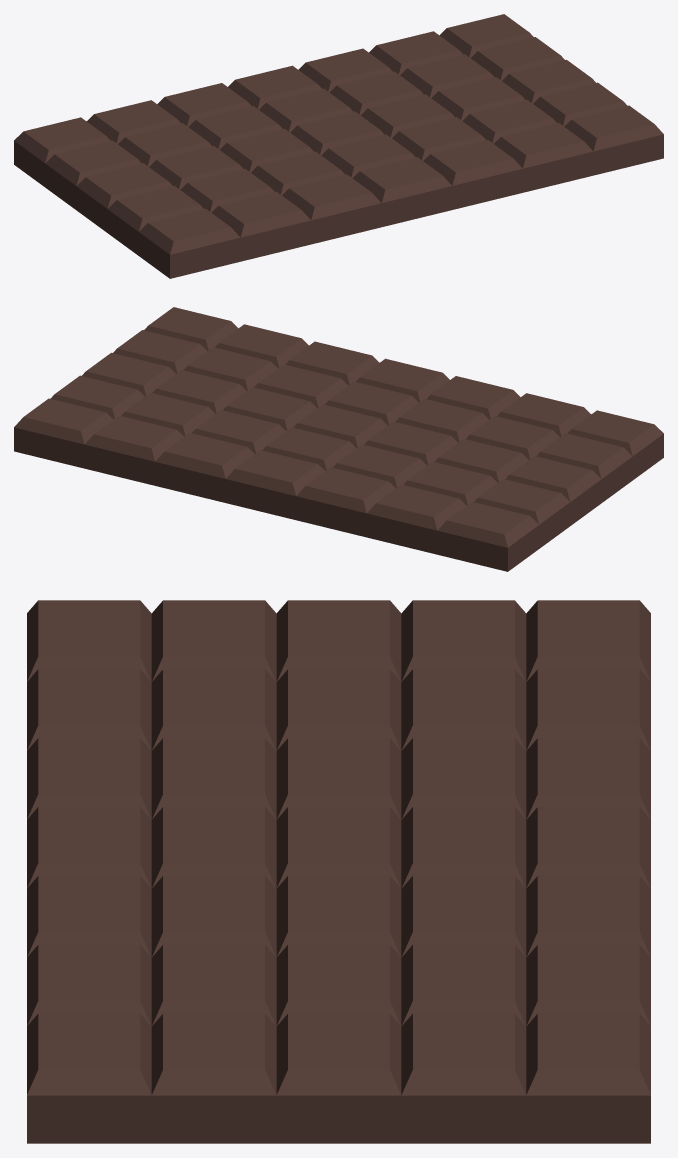
Rendered from 9b30a653-aee7-409d-bbf5-cebedfca16a8.glb.
The picture shows the model from 3 angles, top to bottom: view 1: azimuth 30°, elevation 25°; view 2: azimuth 150°, elevation 25°; view 3: azimuth 270°, elevation 25°; orthographic projection. The views are drawn at different scales.
Parts seen in each view (by area): view 1: Node; view 2: Node; view 3: Node.
Boxes of the visible parts, box(x1,y1,x2,y2) form: Node: box(14, 14, 663, 278); Node: box(14, 307, 663, 571); Node: box(27, 600, 650, 1143).
Size of the model in its own units: 2.11 by 0.1382 by 1.16.
